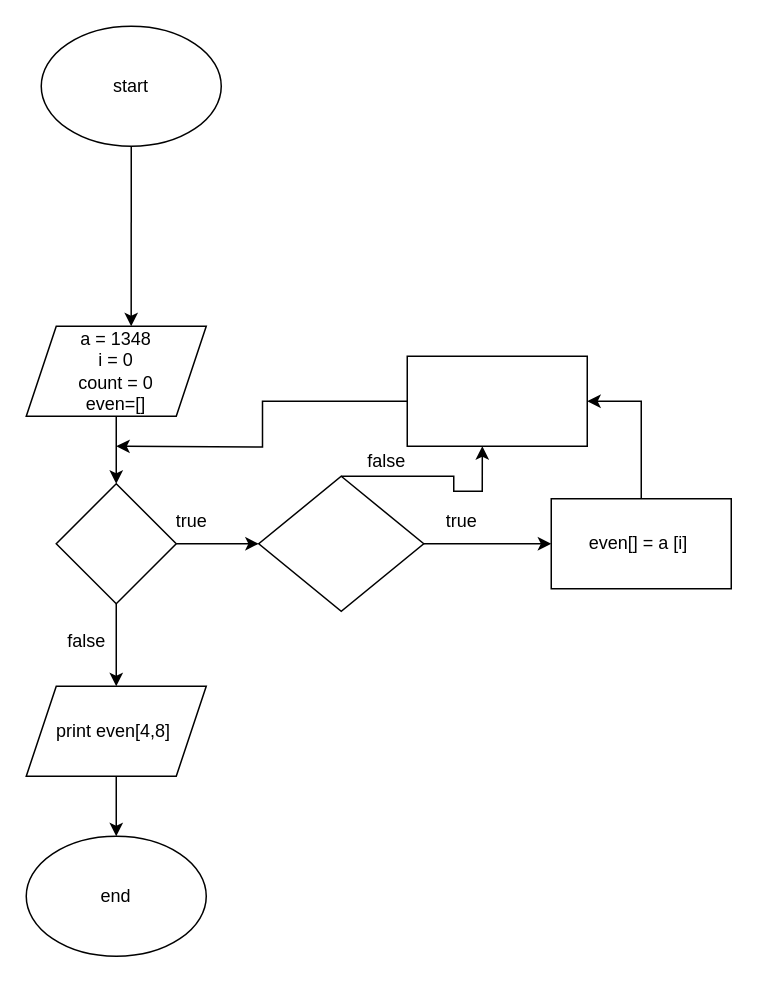
This 758x983 diagram has some shape labels left out. Each missing label, with the centre of its shape:
a[i] %2==0: the point at 340,543
i ++: the point at 496,400
i < a.length: the point at 115,543
